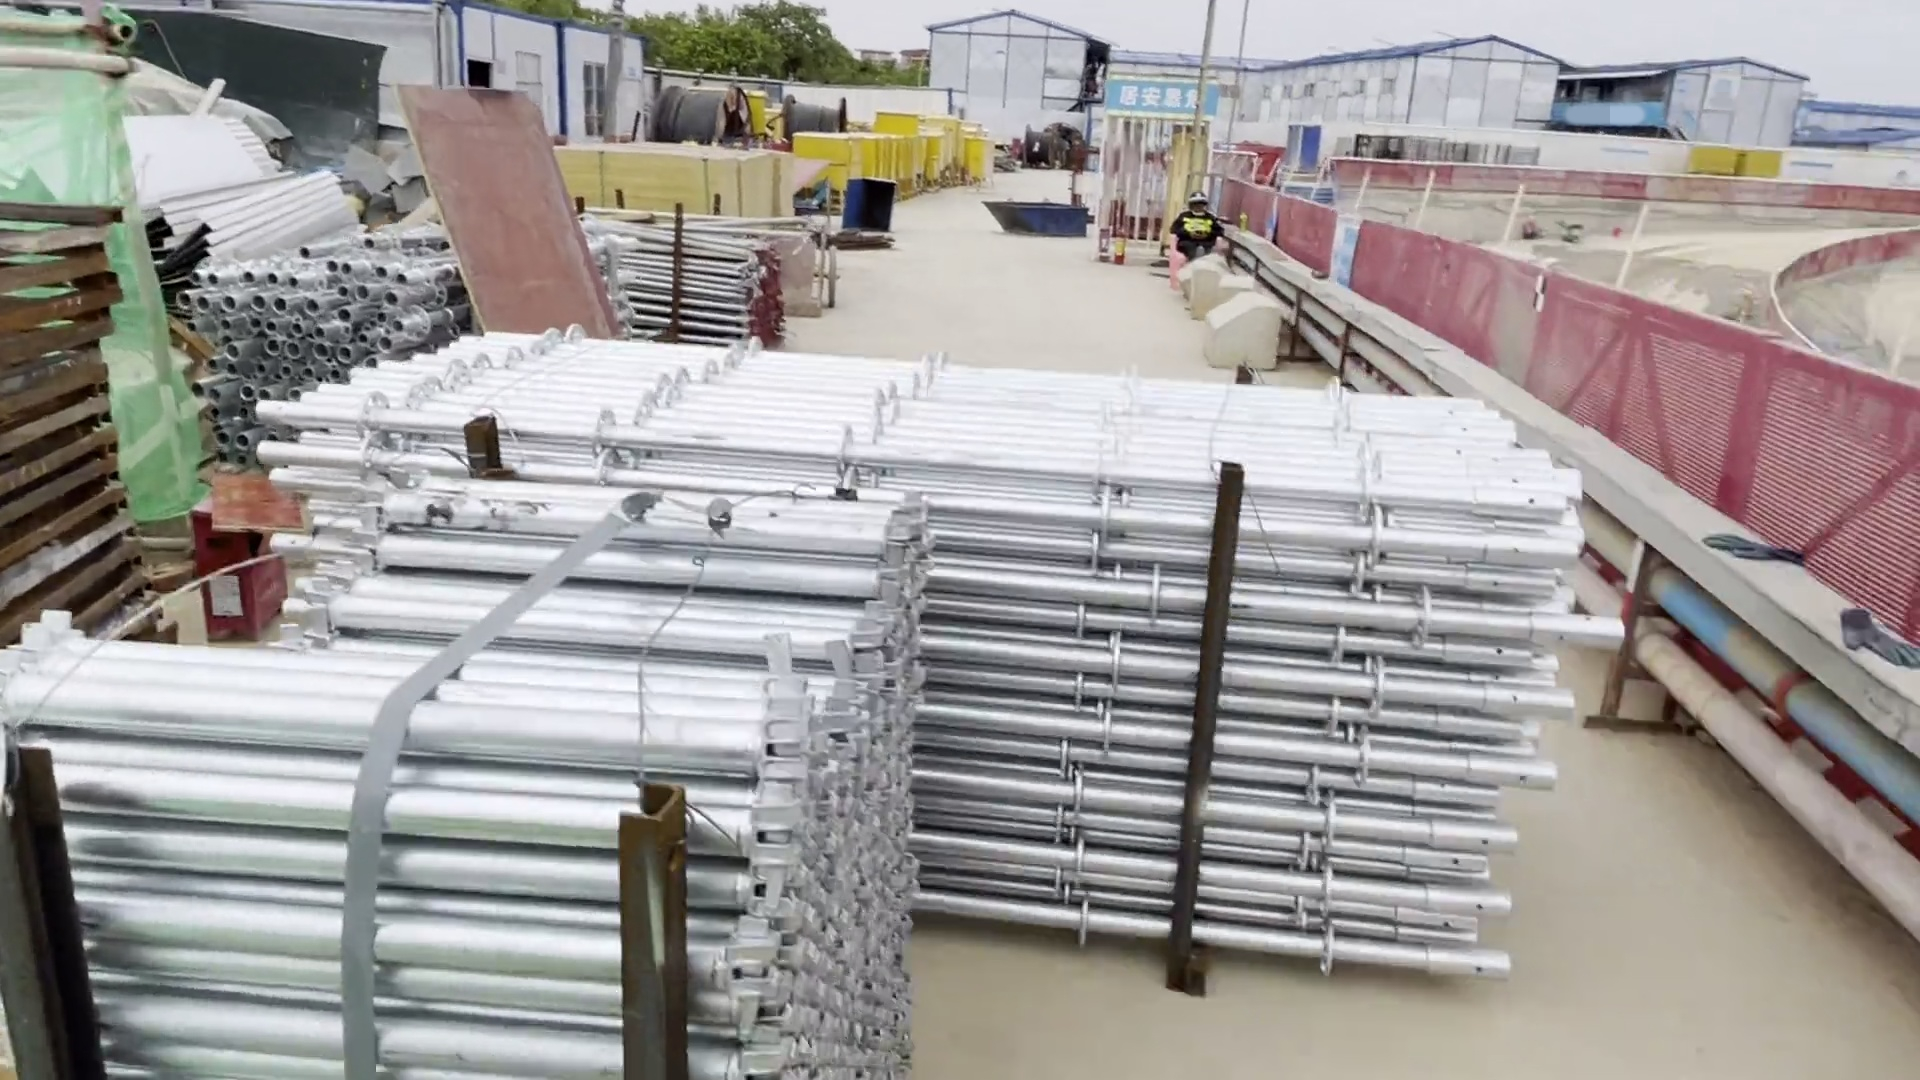fence: (1749, 352, 1920, 629), (1555, 285, 1731, 524), (1361, 229, 1560, 368), (1279, 202, 1331, 270)
scaffold: (261, 365, 1593, 957), (1, 501, 926, 1073), (200, 204, 483, 452), (612, 224, 800, 345)
